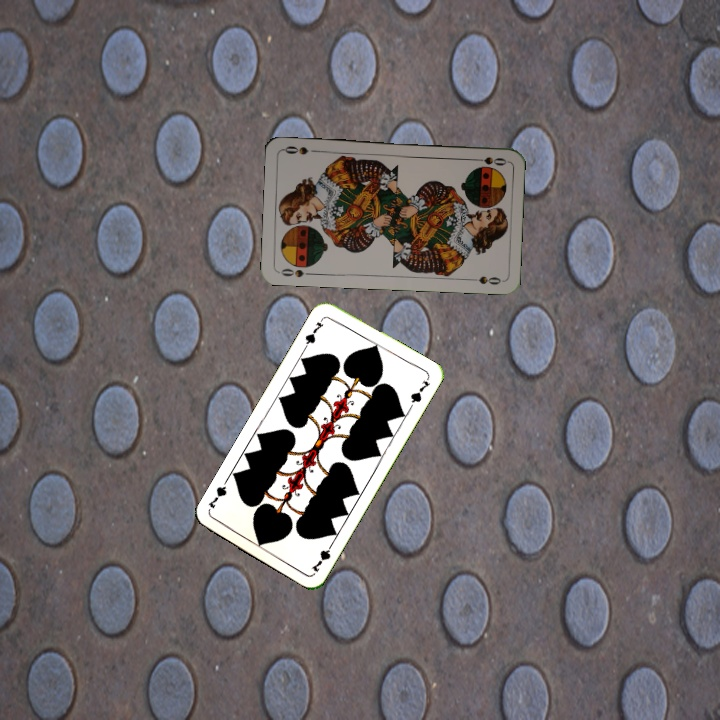G7: (307, 538, 336, 575), (300, 314, 327, 350)
SO: (275, 264, 316, 280), (468, 153, 509, 168)
